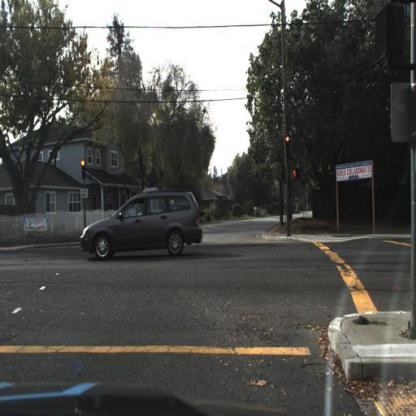car: (78, 190, 204, 263)
trafficLight: (82, 160, 87, 180)
trafficLight-Red: (285, 136, 291, 159)
